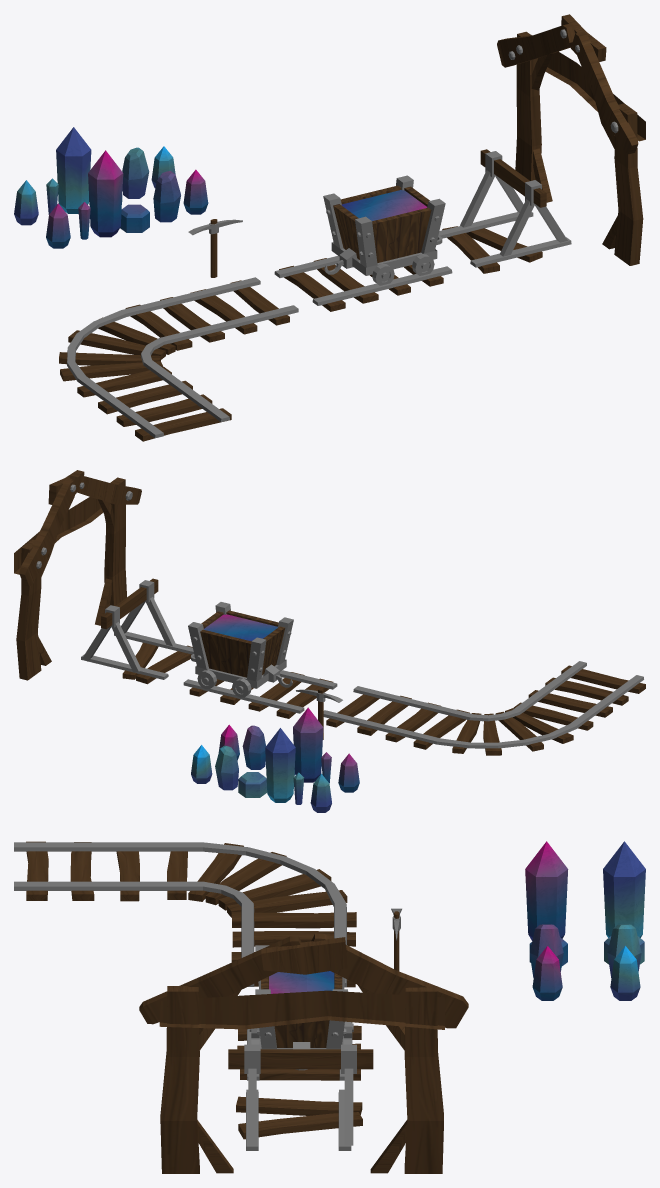
Rendered from mine.fbx.
3 renders of one model, top to bottom at view 1: azimuth 30°, elevation 25°; view 2: azimuth 150°, elevation 25°; view 3: azimuth 270°, elevation 25°, orthographic. The views are drawn at different scales.
Parts seen in each view (by area): view 1: rail_curve, mine_entrance, minecart, rail_end, rail, cristal_3.003, cristal_3.001, gem_2.002, gem_2.001, cristal_1.003, cristal_1.002, cristal_1 (+2 smaller); view 2: rail_curve, mine_entrance, minecart, rail_end, rail, cristal_3.001, cristal_3.003, gem_2.001, gem_2.002, gem_1.001, cristal_1.002, cristal_1.001 (+1 smaller); view 3: mine_entrance, rail_curve, rail_end, minecart, cristal_3.003, cristal_3.001, rail, cristal_1.001, cristal_1, gem_2.001, gem_2.002.
Part boxes in pixels (left/top/right/bottom): rail_curve: left=59, top=277, right=298, bottom=441; mine_entrance: left=497, top=14, right=645, bottom=265; minecart: left=323, top=175, right=445, bottom=285; rail_end: left=438, top=149, right=571, bottom=273; rail: left=274, top=256, right=452, bottom=311; cristal_3.003: left=88, top=150, right=123, bottom=237; cristal_3.001: left=56, top=127, right=91, bottom=213; gem_2.002: left=153, top=171, right=180, bottom=222; gem_2.001: left=122, top=147, right=149, bottom=198; cristal_1.003: left=14, top=180, right=38, bottom=225; cristal_1.002: left=46, top=203, right=70, bottom=248; cristal_1: left=183, top=169, right=208, bottom=214; rail_curve: left=323, top=661, right=645, bottom=755; mine_entrance: left=14, top=470, right=141, bottom=680; minecart: left=188, top=602, right=293, bottom=697; rail_end: left=81, top=578, right=193, bottom=684; rail: left=183, top=670, right=337, bottom=718; cristal_3.001: left=265, top=728, right=295, bottom=802; cristal_3.003: left=293, top=707, right=323, bottom=782; gem_2.001: left=215, top=745, right=238, bottom=790; gem_2.002: left=242, top=725, right=265, bottom=769; gem_1.001: left=238, top=772, right=267, bottom=797; cristal_1.002: left=338, top=753, right=359, bottom=792; cristal_1.001: left=191, top=745, right=212, bottom=783; mine_entrance: left=139, top=933, right=468, bottom=1173; rail_curve: left=14, top=841, right=356, bottom=987; rail_end: left=228, top=1044, right=373, bottom=1150; minecart: left=249, top=945, right=353, bottom=1070; cristal_3.003: left=525, top=841, right=568, bottom=940; cristal_3.001: left=603, top=841, right=645, bottom=937; rail: left=237, top=1022, right=361, bottom=1080; cristal_1.001: left=610, top=946, right=640, bottom=1000; cristal_1: left=532, top=946, right=562, bottom=1000; gem_2.001: left=607, top=924, right=641, bottom=977; gem_2.002: left=529, top=924, right=563, bottom=977.
Bounding box in the file's own units: 1100 × 369 × 883.
